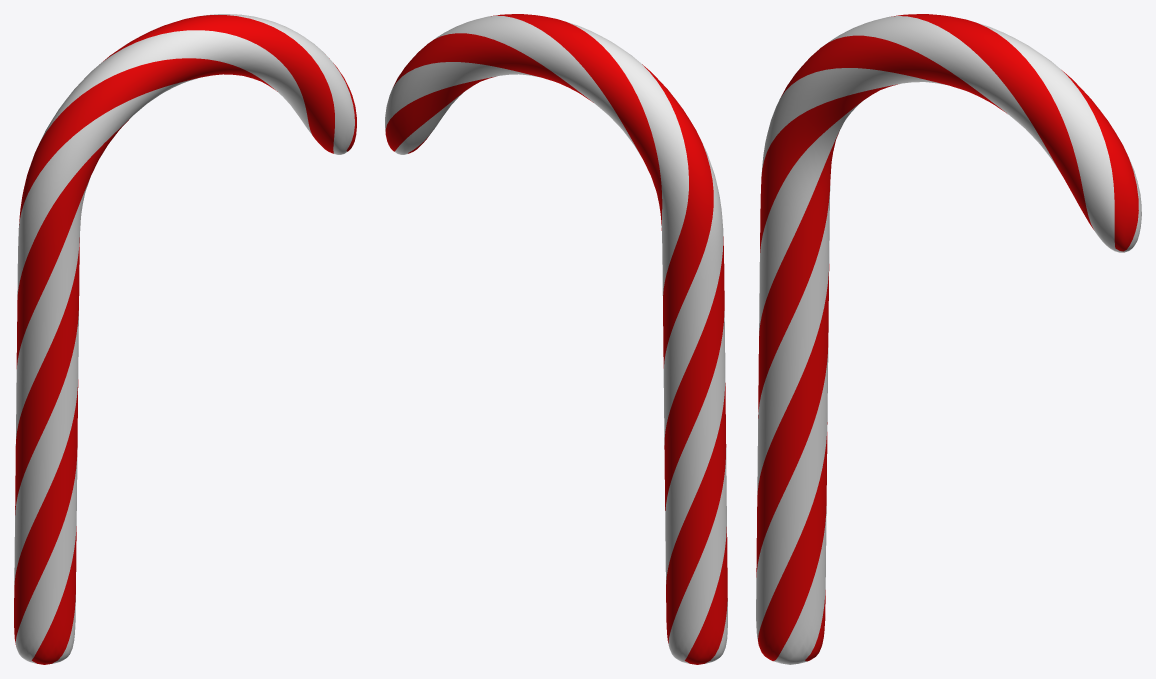
File: candy_cane_fixed.glb
3 renders of one model, left to right at view 1: azimuth 30°, elevation 25°; view 2: azimuth 150°, elevation 25°; view 3: azimuth 330°, elevation 25°, orthographic. The views are drawn at different scales.
Parts seen in each view (by area): view 1: Circle; view 2: Circle; view 3: Circle.
Boxes of the visible parts, x1,y1,x2,y2 form: Circle: (14, 14, 356, 664); Circle: (385, 14, 727, 664); Circle: (756, 14, 1141, 664).
Size of the model in its own units: 2.26 by 3.88 by 0.3596.
